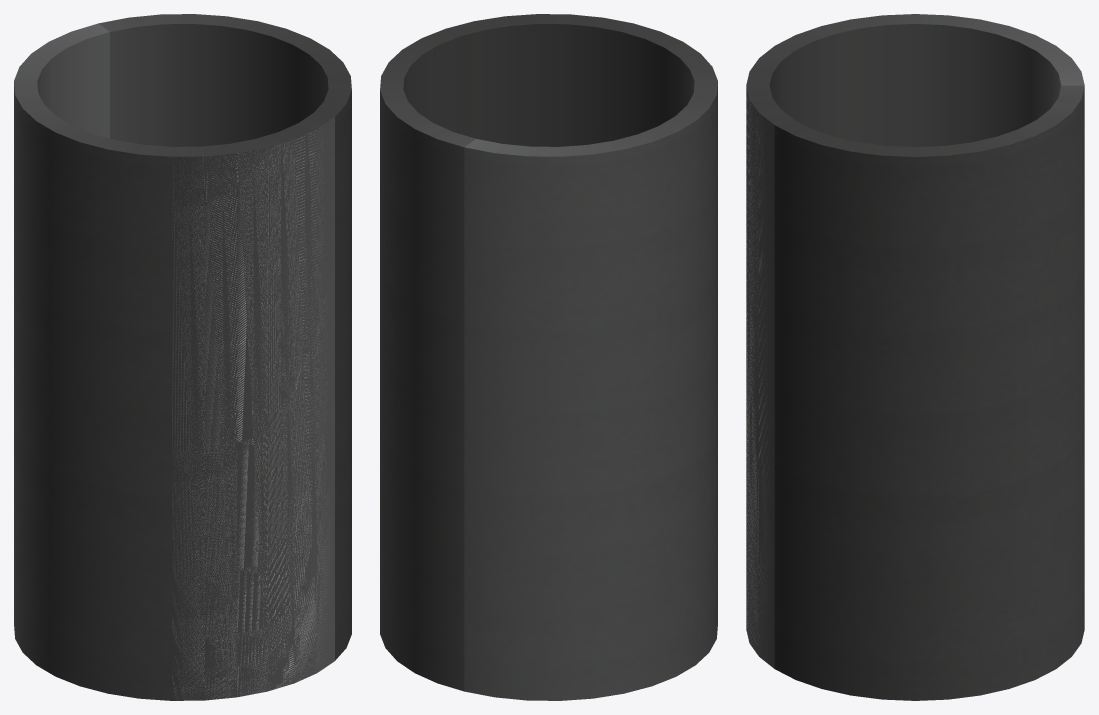
The model's file is Sekretbeholder_Mums.fbx.
3 views of the same model, side by side, from view 1: azimuth 30°, elevation 25°; view 2: azimuth 150°, elevation 25°; view 3: azimuth 270°, elevation 25° (orthographic).
Visible parts, largest first — view 1: Sekretbeholder_2000; view 2: Sekretbeholder_2000; view 3: Sekretbeholder_2000.
Part boxes in pixels (bbox=[...]): Sekretbeholder_2000: bbox=[14, 14, 351, 700]; Sekretbeholder_2000: bbox=[380, 14, 717, 700]; Sekretbeholder_2000: bbox=[746, 14, 1084, 700].
Bounding box in the file's own units: 200 × 355 × 200.
